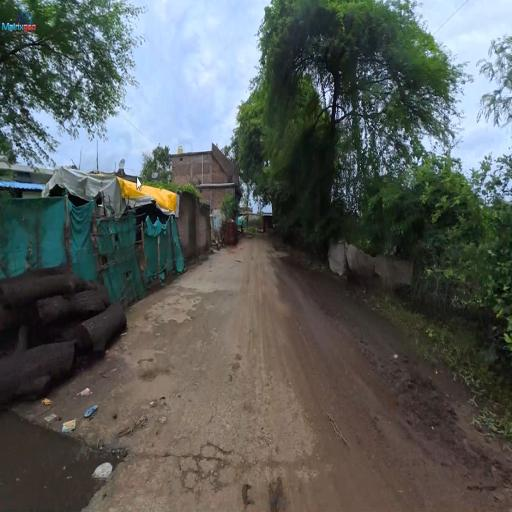alligator_crack: (180, 429, 244, 498)
